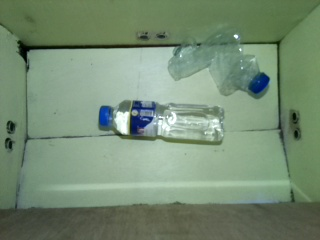bottle: (98, 100, 227, 144)
damaged-bottle: (167, 25, 271, 98)
